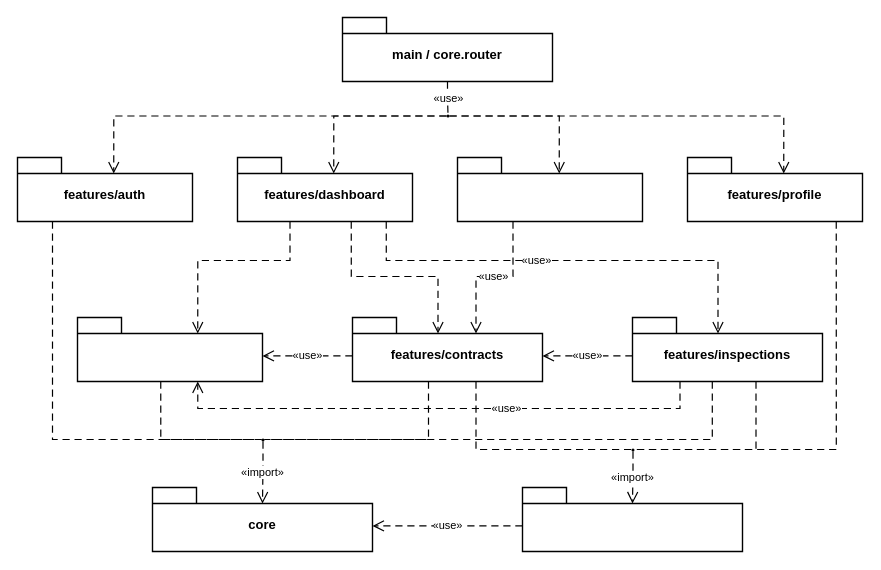
The diagram is 881 pixels wide and 570 high, and some of its shapes have lost their labels. The shapes that lost their labels are listed below. From the top down, each one's centre as x and y in pixels, then its label:
the point at 549,189: features/notifications
the point at 169,349: features/assets
the point at 632,519: shared & l10n
